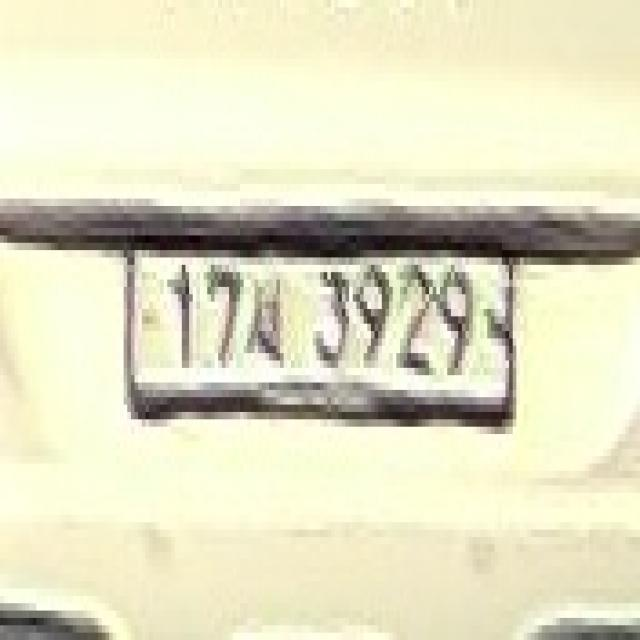1: (168, 242, 196, 382)
2: (396, 257, 436, 390)
3: (313, 258, 349, 375)
7: (200, 250, 247, 375)
9: (349, 250, 396, 383), (440, 257, 480, 390)
license_plate: (116, 213, 524, 427)
seo: (248, 265, 288, 382)
